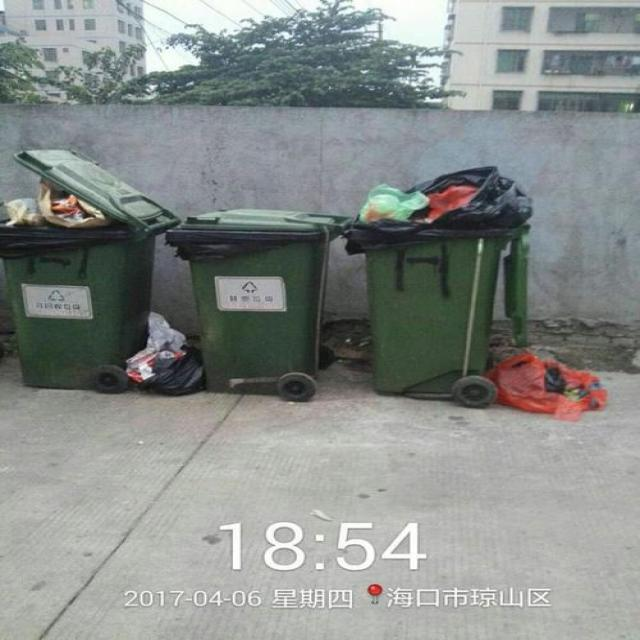garbage: (482, 354, 606, 417), (125, 312, 202, 393)
garbage_bin: (164, 208, 347, 394)
overflow: (342, 164, 527, 393), (0, 150, 175, 387)
